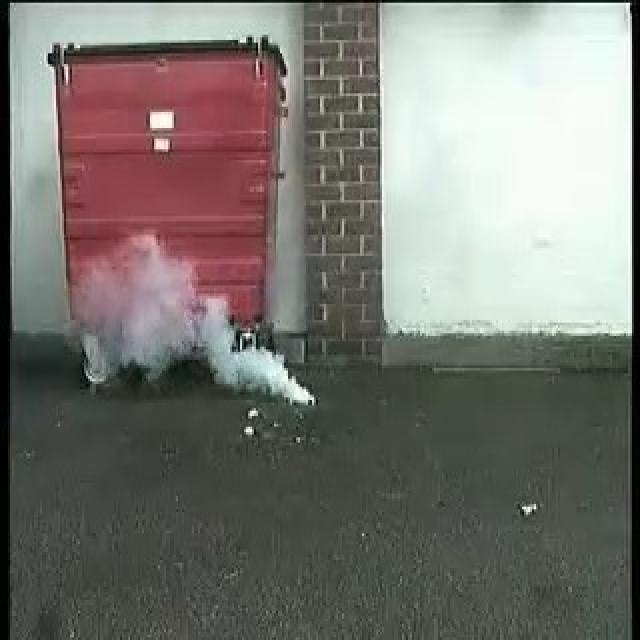smoke: (81, 242, 319, 402)
